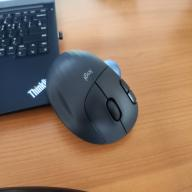mouse: (44, 48, 140, 147)
